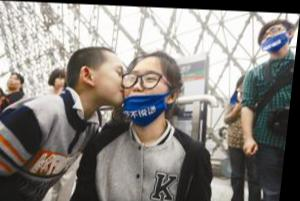NONE: (90, 59, 133, 106), (8, 76, 23, 89), (57, 75, 69, 90), (1, 90, 3, 101)
WRONG: (124, 67, 170, 113), (258, 21, 289, 52)
